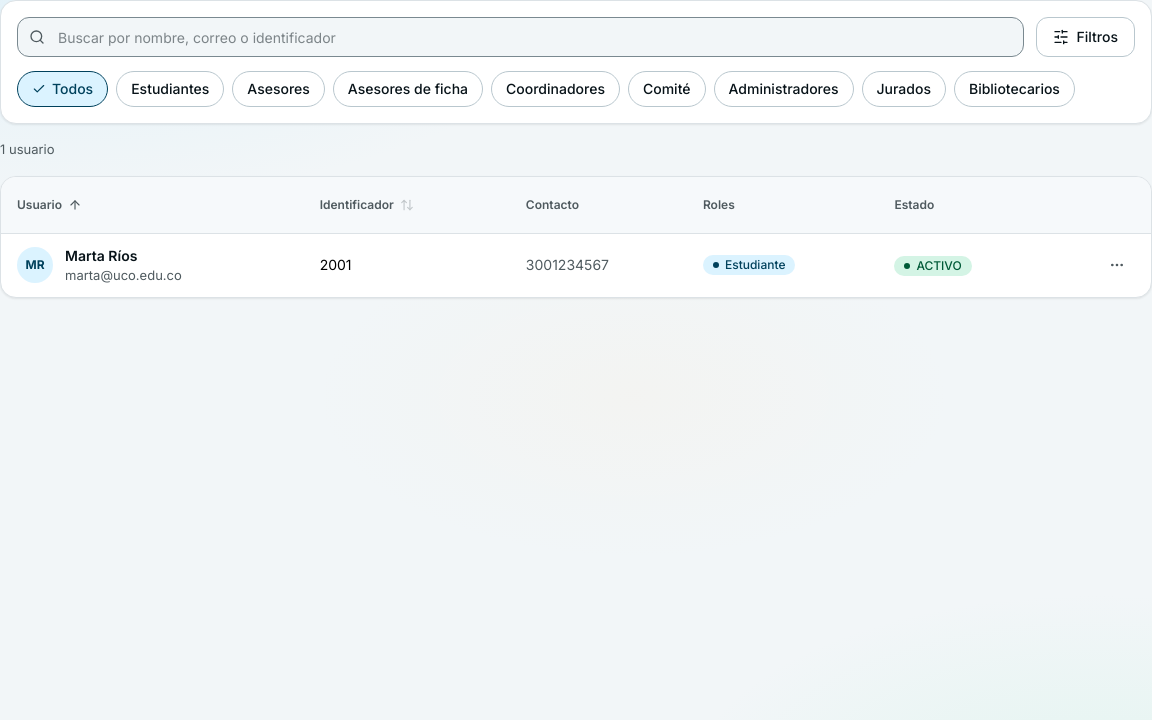
Test: ConsultarUsuarios › catálogo de estados › deshabilita las opciones con aviso si el catálogo falla y deja el id crudo en la tabla
The width and height of the screenshot is (1152, 720).
Click the button "Filtros" at (1085, 37), box [1036,17,1135,57]
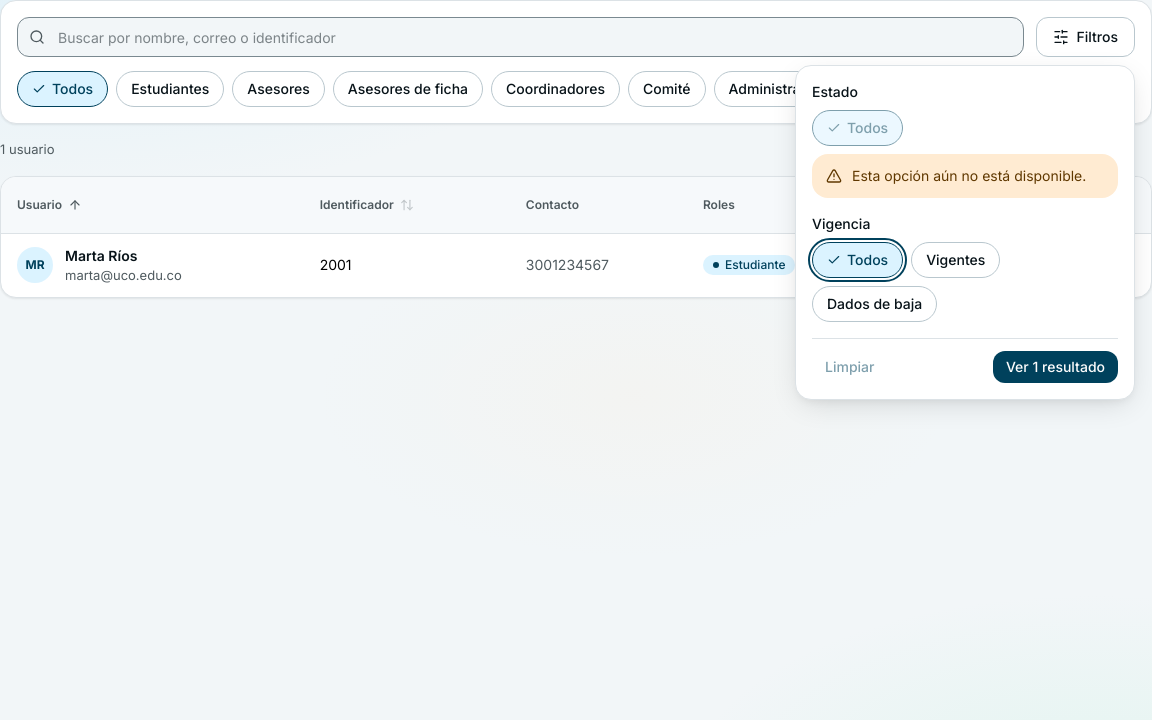
Expected: the text "ACTIVO" is shown, [894,256,972,276]
Expected: the 2nd button "Todos" is disabled, [812,110,903,146]
Expected: the element named "No disponible: estados de usuario" is shown, [812,154,1118,198]
